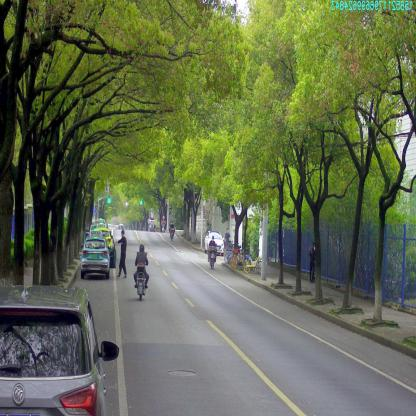traffic-light: (108, 192, 111, 203), (140, 200, 143, 204)
